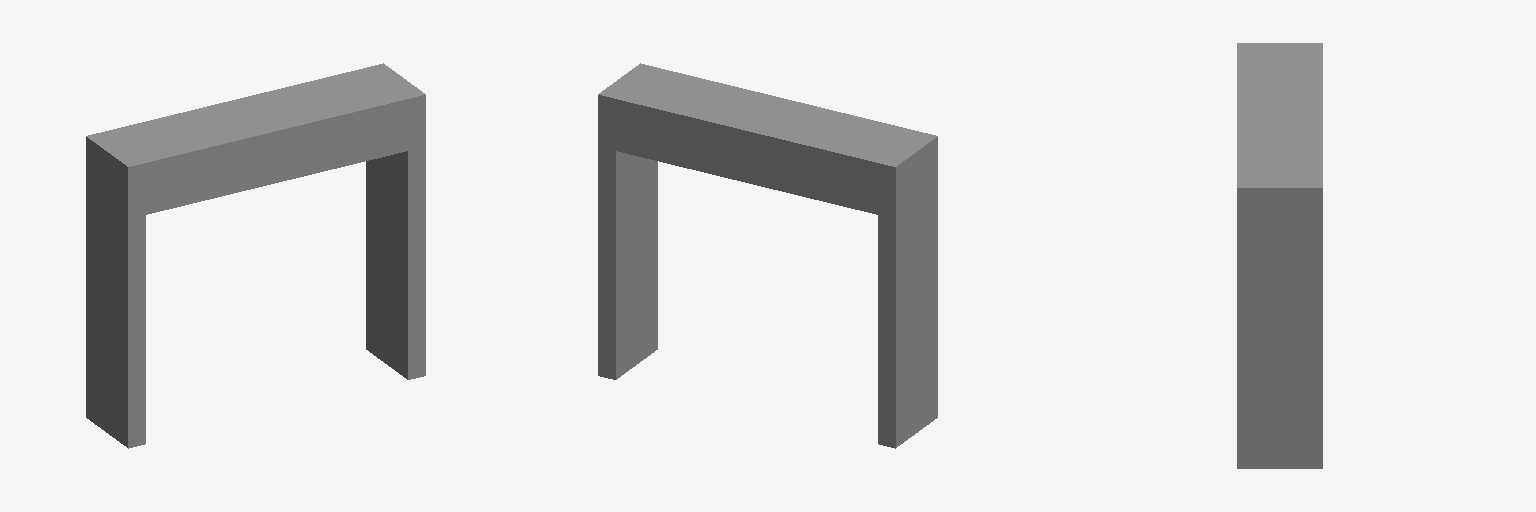
File: arco.obj
3 views of the same model, side by side, from view 1: azimuth 30°, elevation 25°; view 2: azimuth 150°, elevation 25°; view 3: azimuth 270°, elevation 25° (orthographic).
Parts seen in each view (by area): view 1: Cube; view 2: Cube; view 3: Cube.
Boxes of the visible parts, x1=… form: Cube: x1=86, y1=63, x2=425, y2=448; Cube: x1=598, y1=63, x2=937, y2=448; Cube: x1=1237, y1=43, x2=1322, y2=468.
Bounding box in the file's own units: 7.61 × 6.87 × 1.88.